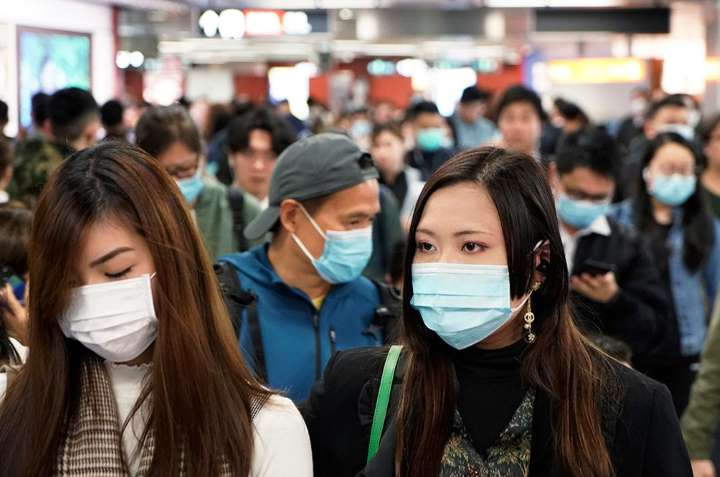surgical: (52, 272, 172, 364), (405, 259, 520, 352), (308, 223, 379, 286), (554, 195, 613, 233), (646, 170, 698, 207)
